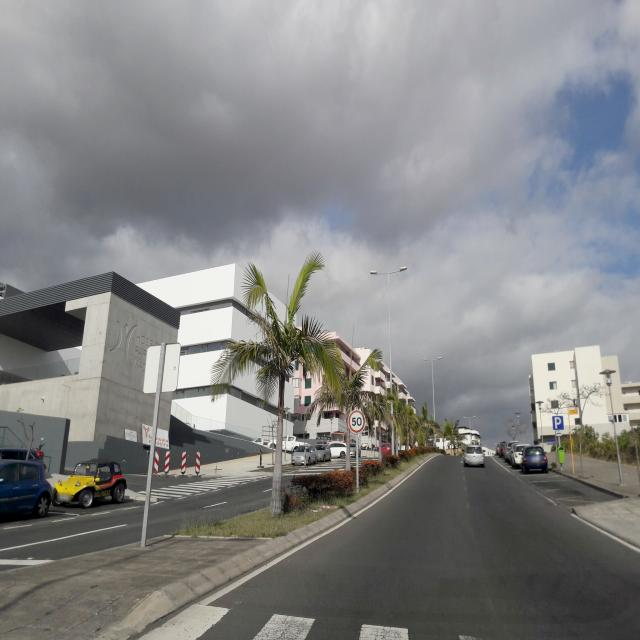car: (0, 458, 55, 529), (520, 445, 548, 474), (290, 444, 317, 466), (462, 444, 486, 468), (510, 444, 531, 468), (312, 442, 331, 462), (328, 440, 348, 459), (504, 441, 516, 463), (496, 442, 506, 458)
